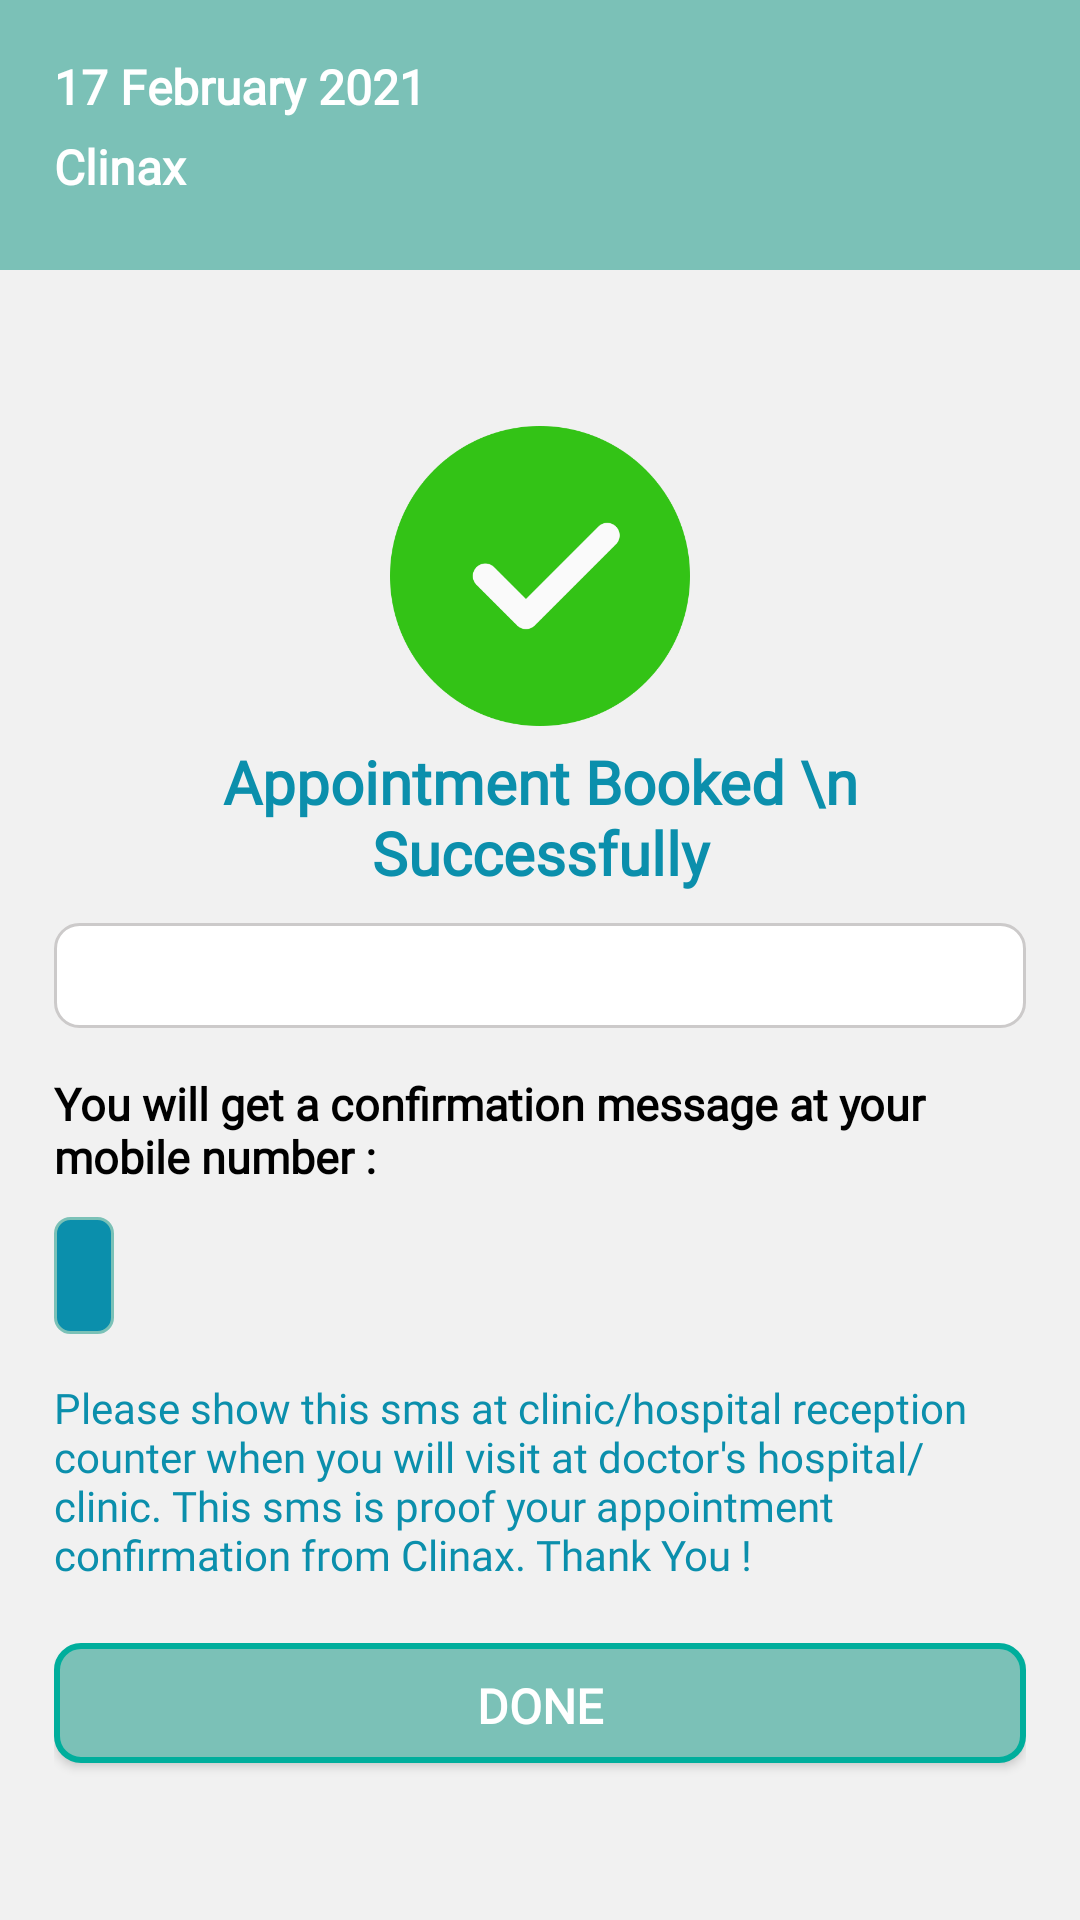

Named icons in this screenshot (1080x1920) and their centers, [x,y]:
check: [540,576]
